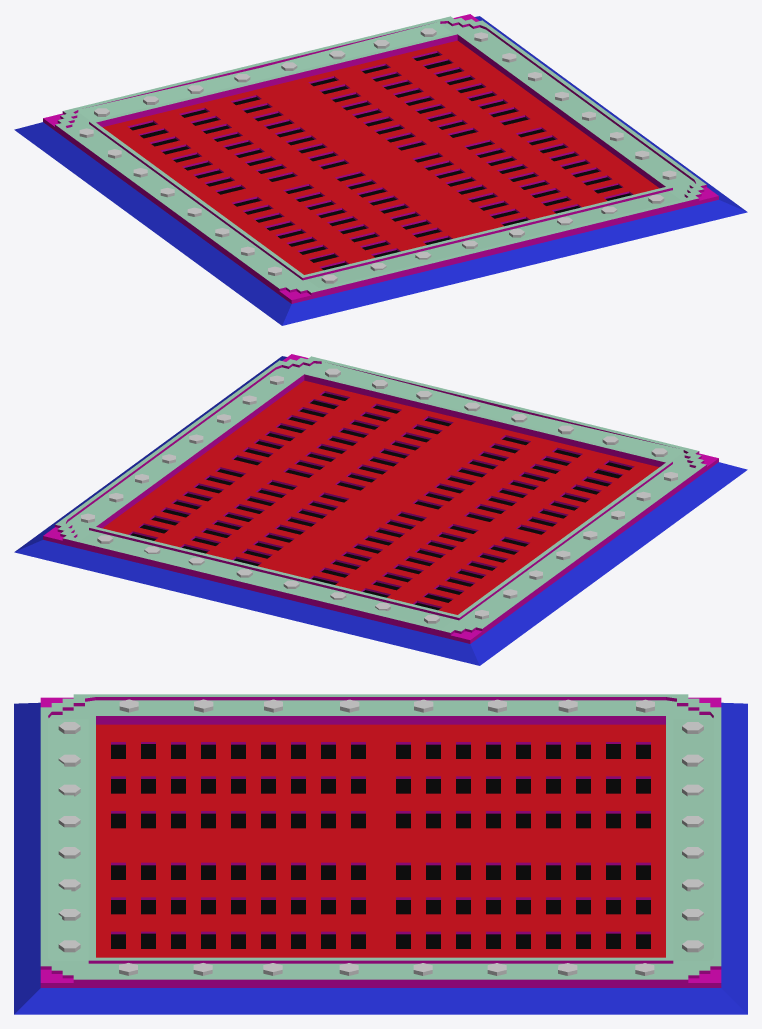
The model's file is floor_fixed.fbx.
The picture shows the model from 3 angles, top to bottom: view 1: azimuth 30°, elevation 25°; view 2: azimuth 150°, elevation 25°; view 3: azimuth 270°, elevation 25°; orthographic projection. The views are drawn at different scales.
Visible parts, largest first — view 1: plate, nuts_1, nuts_2; view 2: plate, nuts_1, nuts_2; view 3: plate, nuts_1, nuts_2.
Boxes of the visible parts, x1,y1,x2,y2 form: plate: (14,14,747,325); nuts_1: (79,32,676,275); nuts_2: (94,28,664,283); plate: (14,354,747,665); nuts_1: (81,375,677,619); nuts_2: (97,368,667,623); plate: (14,694,747,1014); nuts_1: (119,699,654,975); nuts_2: (58,722,703,952).
Bounding box in the file's own units: 1004 × 34.5 × 1001.
